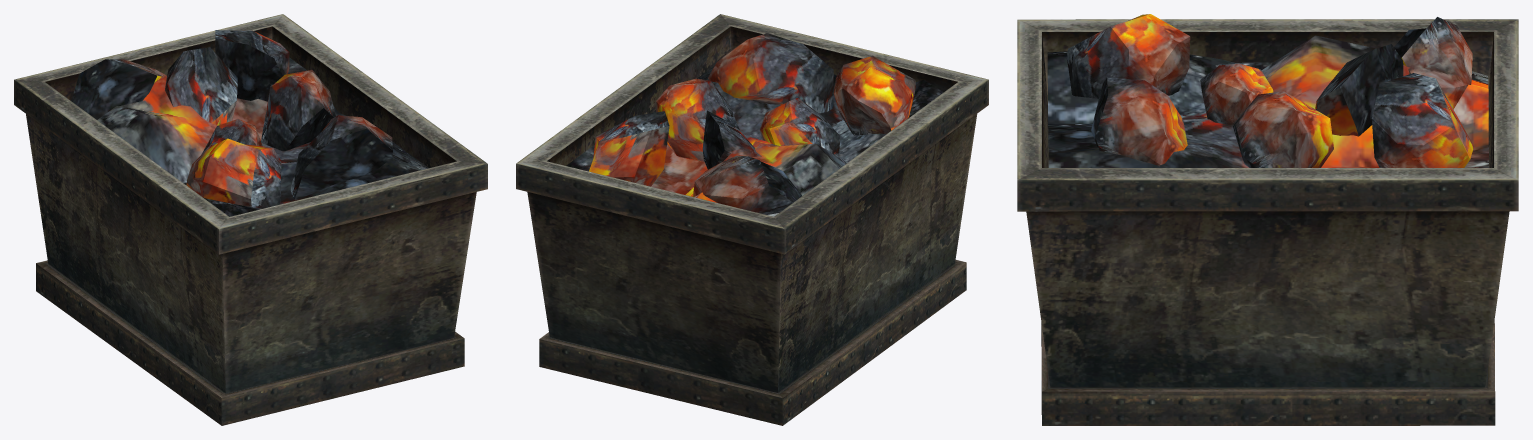
Rendered from fortms_box_smithy01.glb.
The picture shows the model from 3 angles, left to right: view 1: azimuth 30°, elevation 25°; view 2: azimuth 150°, elevation 25°; view 3: azimuth 270°, elevation 25°; orthographic projection. The views are drawn at different scales.
Visible parts, largest first — view 1: fortms_box_smithy01; view 2: fortms_box_smithy01; view 3: fortms_box_smithy01.
Boxes of the visible parts, bbox=[...] form: fortms_box_smithy01: bbox=[14, 14, 487, 425]; fortms_box_smithy01: bbox=[516, 14, 988, 425]; fortms_box_smithy01: bbox=[1017, 14, 1518, 425].
Bounding box in the file's own units: 1.46 × 1.29 × 1.92.
Materials: 1 (1 with a texture image).
